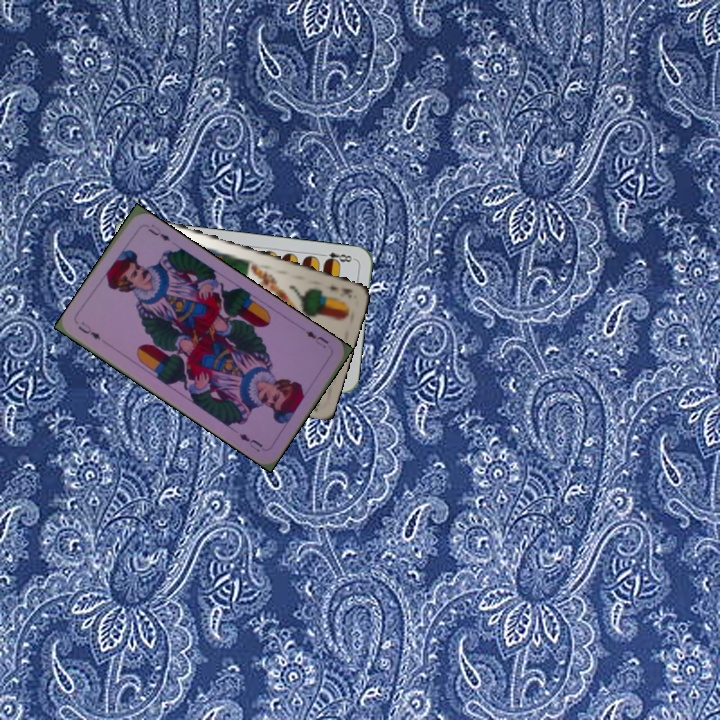E8: (317, 248, 357, 266)
EK: (325, 281, 355, 298)
EU: (302, 326, 331, 351), (74, 317, 103, 342)
